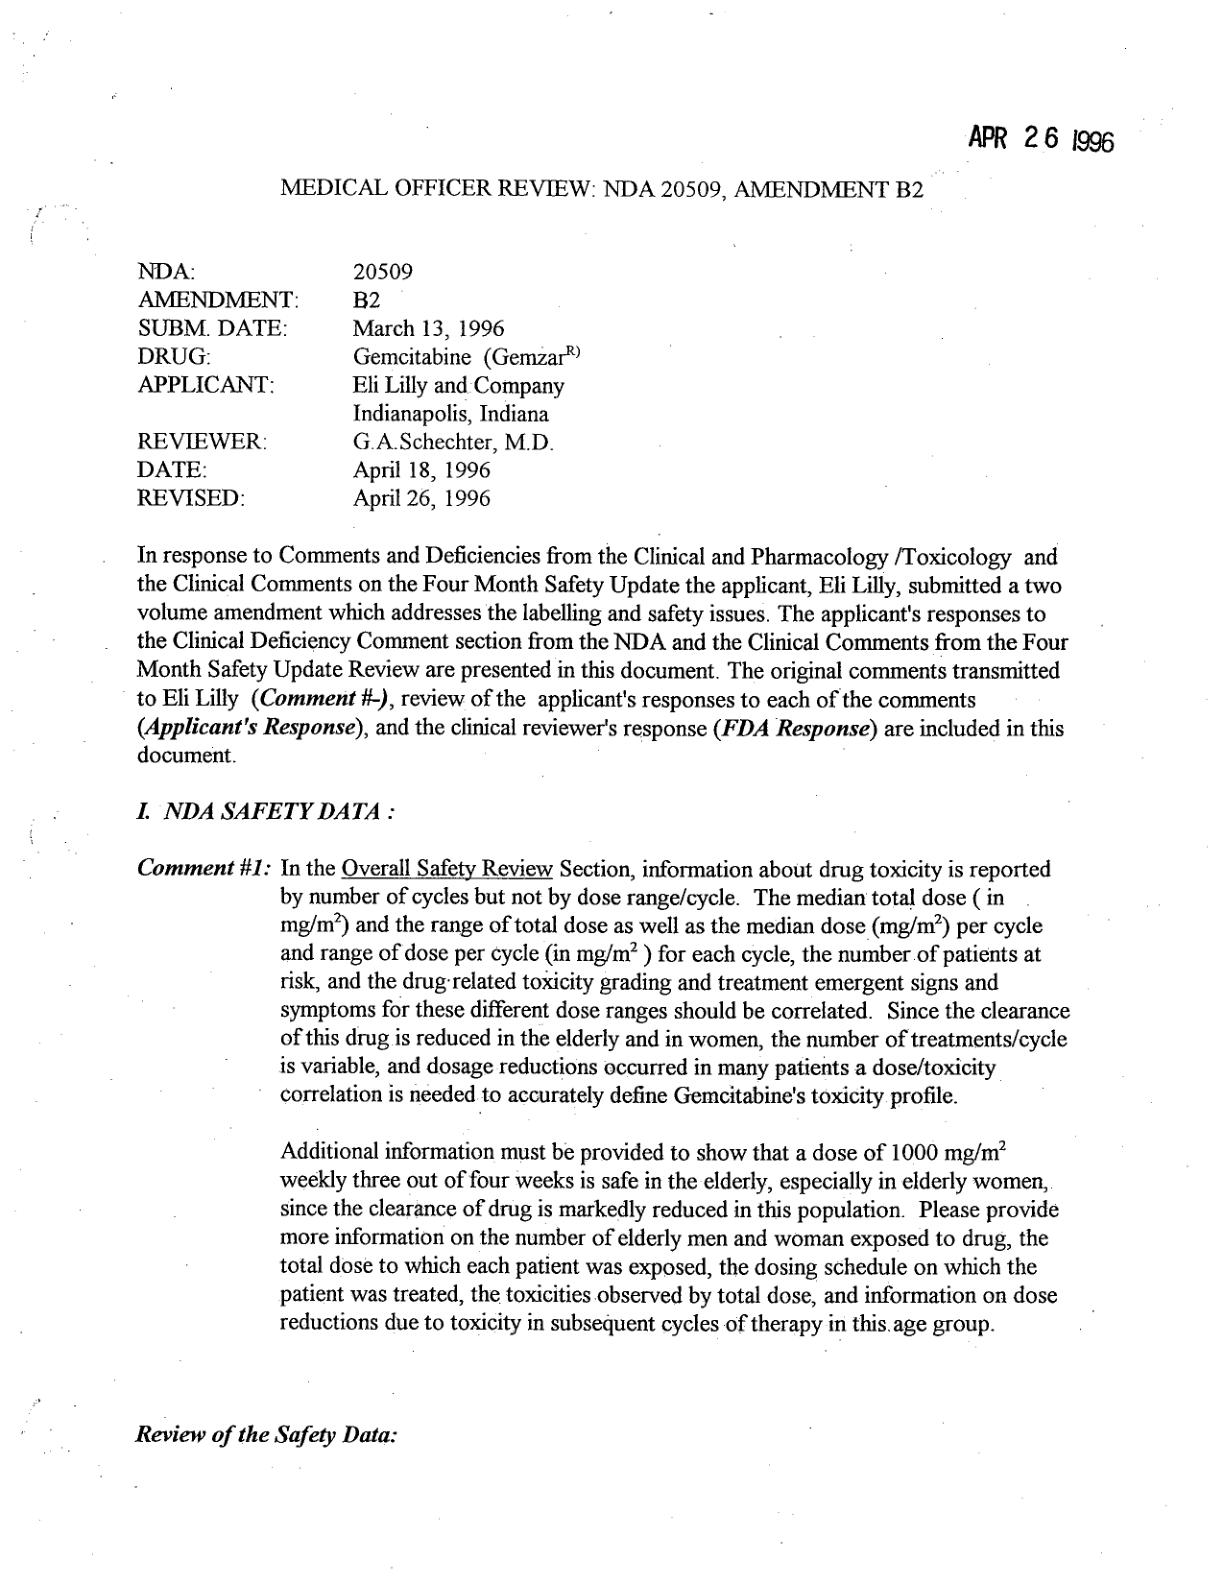nolines: (136, 257, 582, 509)
